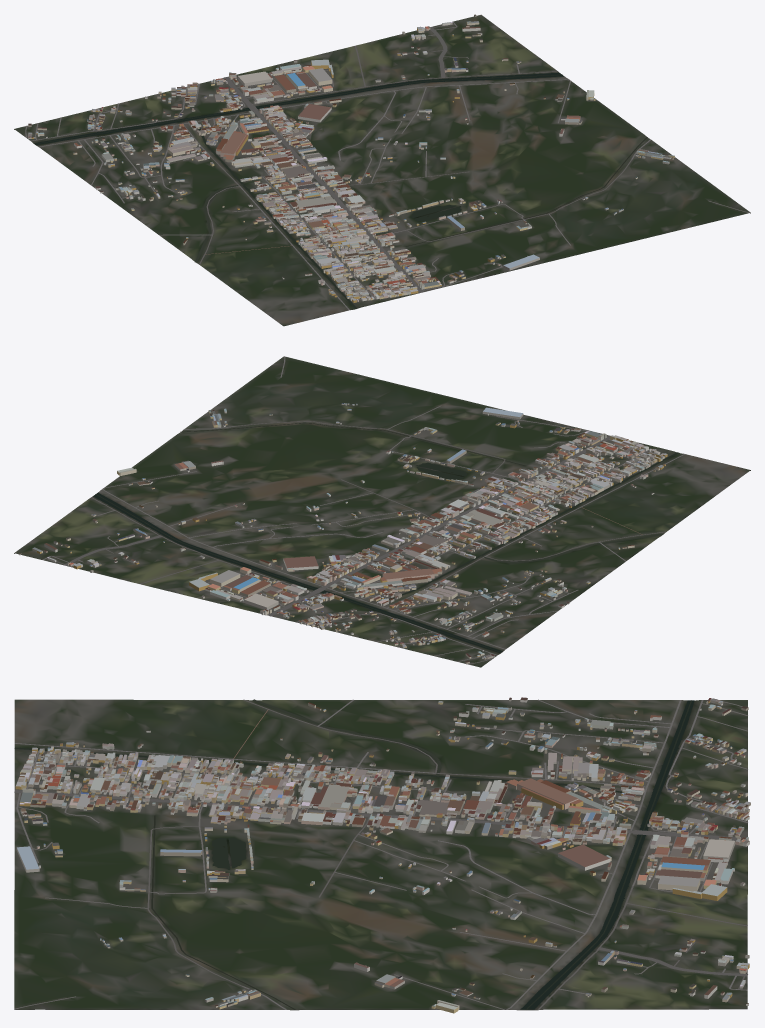
3 views of the same model, one above another, from view 1: azimuth 30°, elevation 25°; view 2: azimuth 150°, elevation 25°; view 3: azimuth 270°, elevation 25° (orthographic). The views are drawn at different scales.
Parts seen in each view (by area): view 1: ground, buildings, roads, water; view 2: ground, buildings, roads, water; view 3: ground, buildings, roads, water.
Boxes of the visible parts, x1,y1,x2,y2 form: ground: (14,14,750,326); buildings: (28,14,674,302); roads: (25,21,749,310); water: (34,72,647,308); ground: (14,356,750,667); buildings: (19,403,667,664); roads: (42,356,685,664); water: (93,422,678,652); ground: (14,699,747,1010); buildings: (15,697,750,1013); roads: (14,699,747,1009); water: (14,699,694,1009).
Bounding box in the file's own units: 1418 × 17.78 × 1408.
